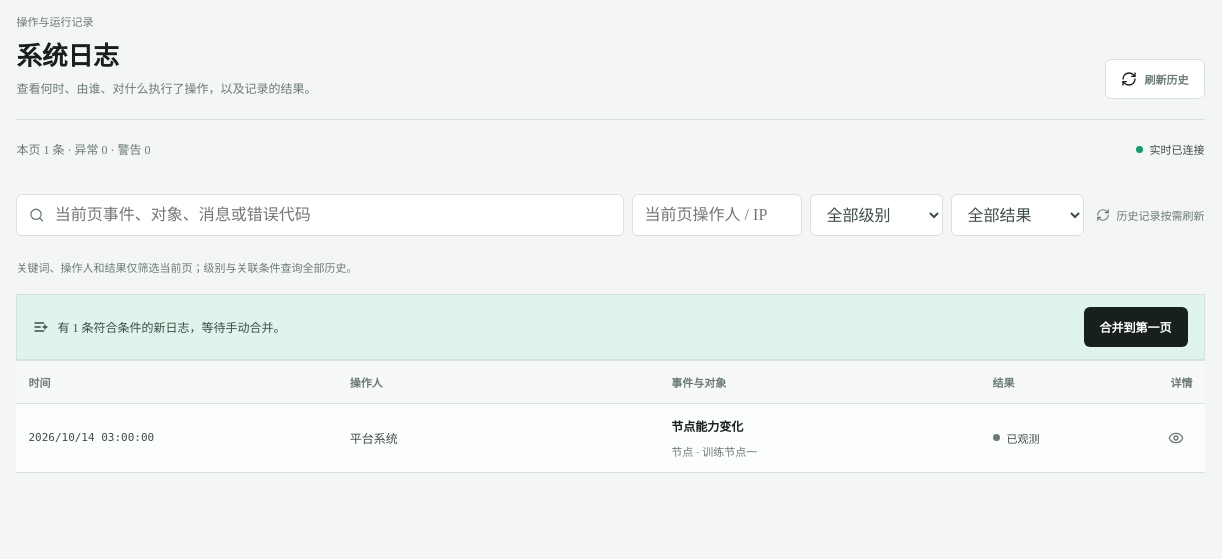
Admin logs reading workflow › leaves new records buffered until explicit merge, then reconciles persisted history
Expected: the text "运行容量核对完成" is not shown
Click the button "合并到第一页" at (1136, 327), box [1084,307,1188,347]
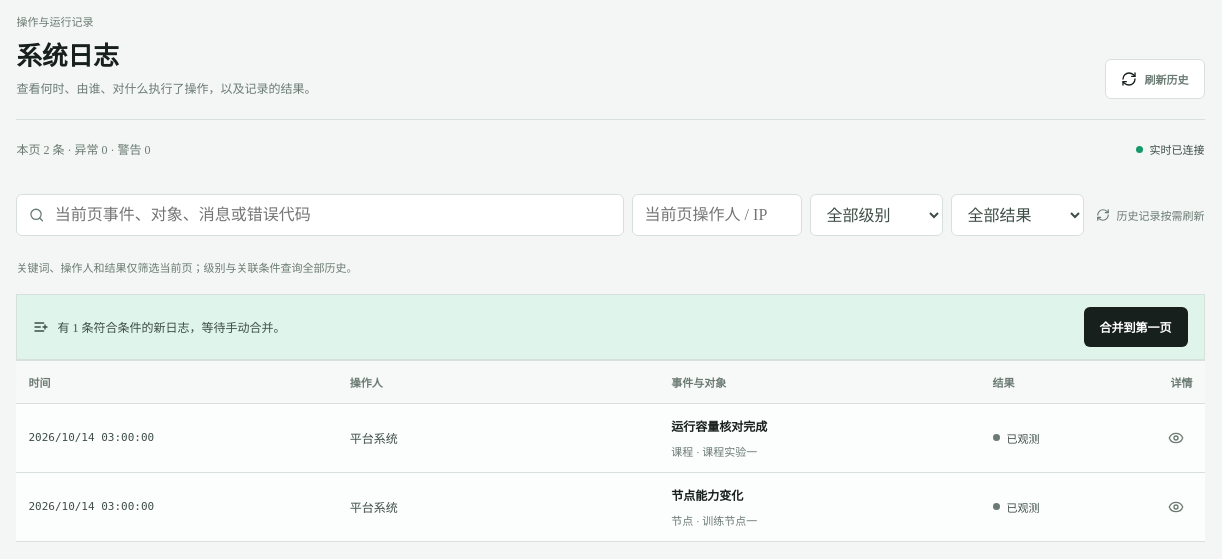
Expected: the text "运行容量核对完成" is shown, [671,420,767,434]
